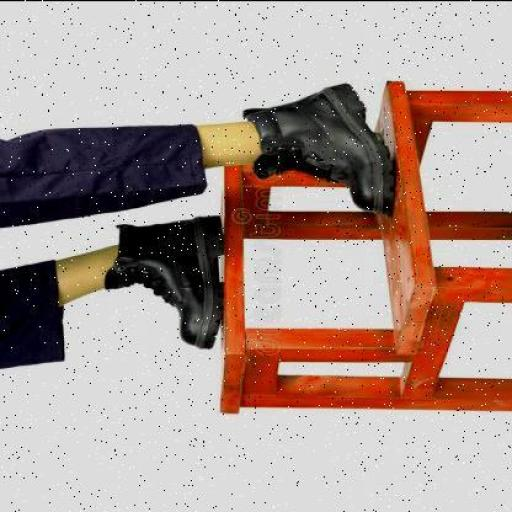safety_shoe: (255, 95, 381, 198), (116, 215, 220, 335)
